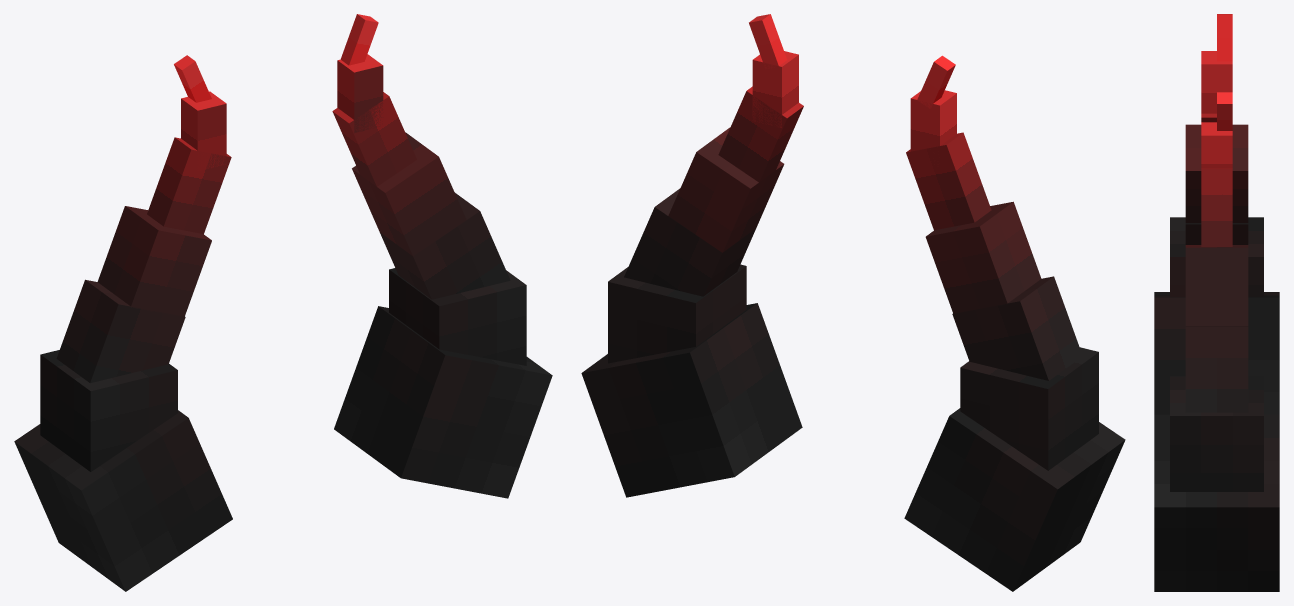
The model's file is horns-small.glb.
3 views of the same model, side by side, from view 1: azimuth 30°, elevation 25°; view 2: azimuth 150°, elevation 25°; view 3: azimuth 270°, elevation 25° (orthographic). The views are drawn at different scales.
Parts seen in each view (by area): view 1: cube_2, cube_0, cube_1, cube_3, cube_9, cube_10, cube_5, cube_4, cube_11, cube_6, cube_7, cube_12 (+2 smaller); view 2: cube_2, cube_0, cube_1, cube_3, cube_9, cube_10, cube_5, cube_4, cube_11, cube_6, cube_7, cube_12 (+2 smaller); view 3: cube_2, cube_3, cube_0, cube_4, cube_5, cube_10, cube_1, cube_6, cube_12, cube_7, cube_13, cube_9 (+1 smaller).
Part boxes in pixels (left/top/right/bottom): cube_2: left=334, top=306, right=552, bottom=498; cube_0: left=14, top=410, right=232, bottom=591; cube_1: left=40, top=350, right=177, bottom=471; cube_3: left=389, top=268, right=526, bottom=365; cube_9: left=56, top=279, right=185, bottom=383; cube_10: left=97, top=206, right=211, bottom=316; cube_5: left=352, top=132, right=466, bottom=256; cube_4: left=379, top=192, right=510, bottom=299; cube_11: left=147, top=137, right=231, bottom=233; cube_6: left=332, top=92, right=416, bottom=186; cube_7: left=337, top=54, right=383, bottom=133; cube_12: left=181, top=91, right=226, bottom=170; cube_2: left=581, top=303, right=802, bottom=497; cube_0: left=904, top=408, right=1125, bottom=591; cube_1: left=960, top=347, right=1098, bottom=470; cube_3: left=608, top=264, right=746, bottom=363; cube_9: left=952, top=276, right=1082, bottom=380; cube_10: left=925, top=201, right=1041, bottom=313; cube_5: left=668, top=127, right=784, bottom=252; cube_4: left=624, top=188, right=755, bottom=296; cube_11: left=906, top=132, right=991, bottom=230; cube_6: left=718, top=86, right=803, bottom=182; cube_7: left=752, top=51, right=798, bottom=127; cube_12: left=910, top=90, right=956, bottom=164; cube_2: left=1154, top=414, right=1279, bottom=591; cube_3: left=1170, top=376, right=1263, bottom=491; cube_0: left=1154, top=292, right=1279, bottom=414; cube_4: left=1185, top=326, right=1248, bottom=412; cube_5: left=1185, top=245, right=1248, bottom=325; cube_10: left=1185, top=124, right=1248, bottom=223; cube_1: left=1170, top=217, right=1263, bottom=297; cube_6: left=1201, top=168, right=1232, bottom=246; cube_12: left=1201, top=51, right=1232, bottom=113; cube_7: left=1201, top=122, right=1232, bottom=168; cube_13: left=1217, top=14, right=1232, bottom=61; cube_9: left=1185, top=223, right=1248, bottom=244.
Size of the model in its own units: 1.78 by 1.74 by 0.4387.
1 material, 1 textured.
